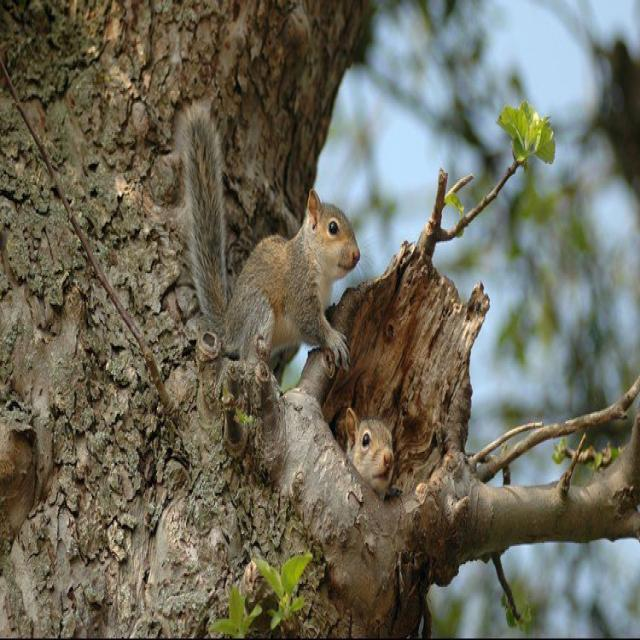Squirrel: (180, 105, 366, 374), (343, 406, 404, 502)
